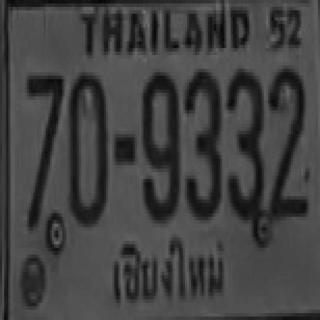N00: (68, 69, 107, 224)
N02: (268, 65, 306, 217)
N03: (226, 65, 263, 217), (183, 69, 220, 217)
N07: (25, 71, 62, 225)
N09: (141, 69, 179, 220)
P11: (109, 231, 230, 308)
